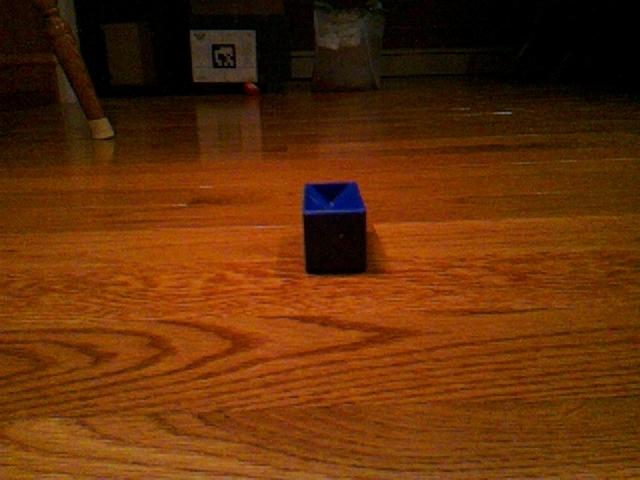blue: (301, 179, 369, 276)
